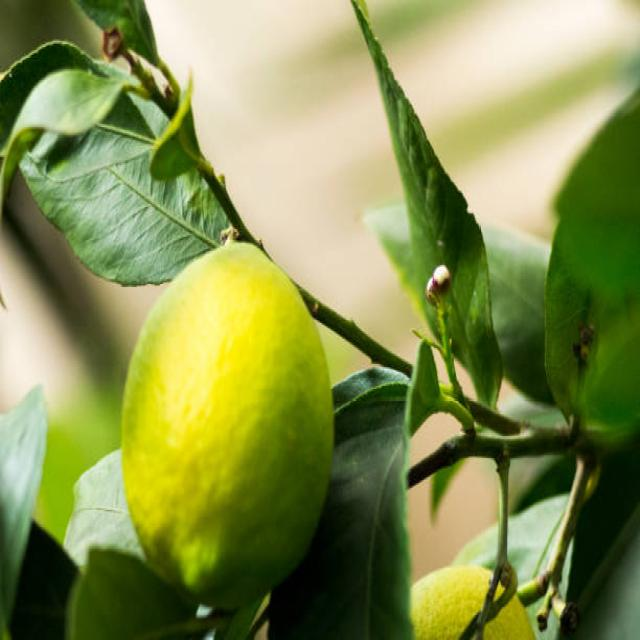Lemon: (121, 241, 336, 617)
